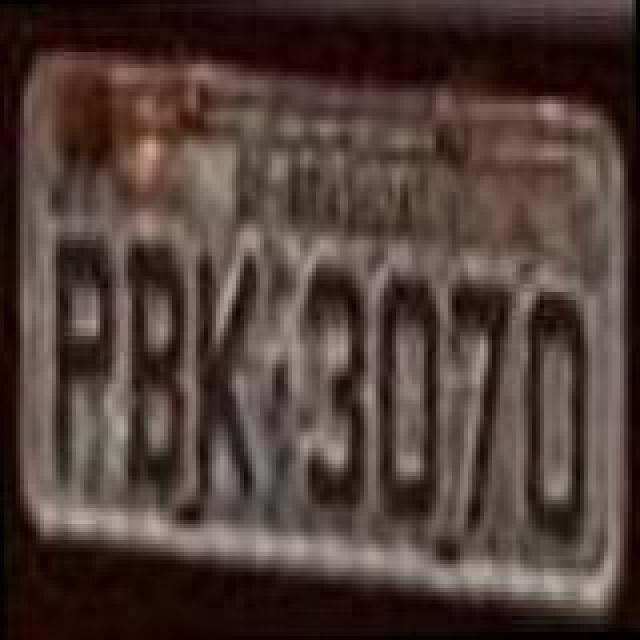3: (304, 256, 372, 516)
7: (446, 286, 518, 538)
B: (120, 240, 192, 500)
K: (190, 250, 258, 502)
O: (518, 286, 590, 546), (376, 270, 444, 522)
P: (52, 238, 116, 482)
